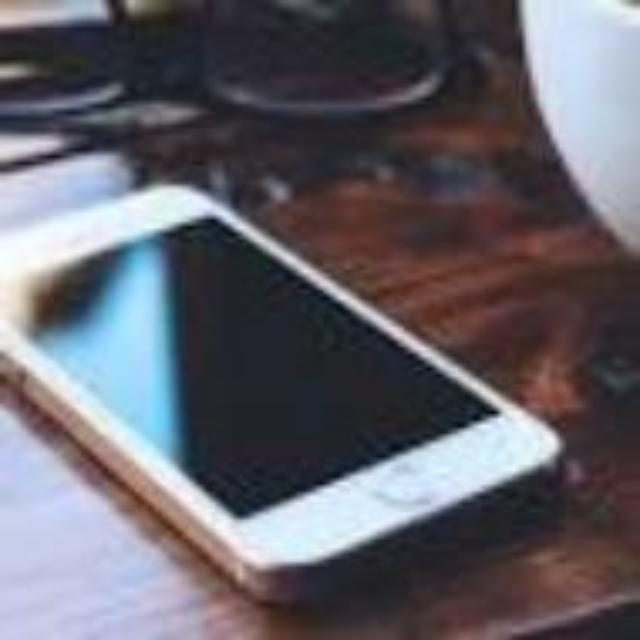Phone: (2, 183, 564, 604)
